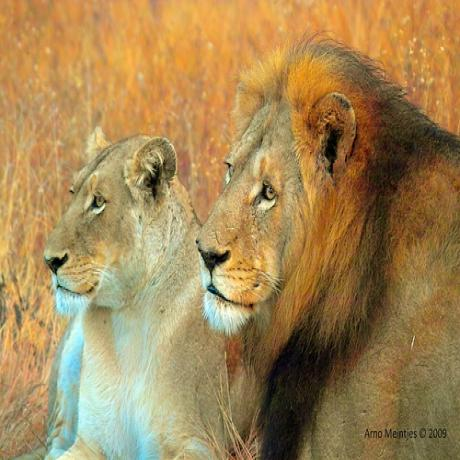Lion: (196, 33, 460, 460), (46, 122, 224, 460)
